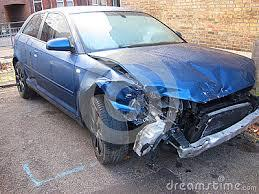bonnet-dent: (107, 49, 258, 89)
fender-dent: (83, 64, 136, 103)
front-bumper-dent: (149, 106, 256, 154)
